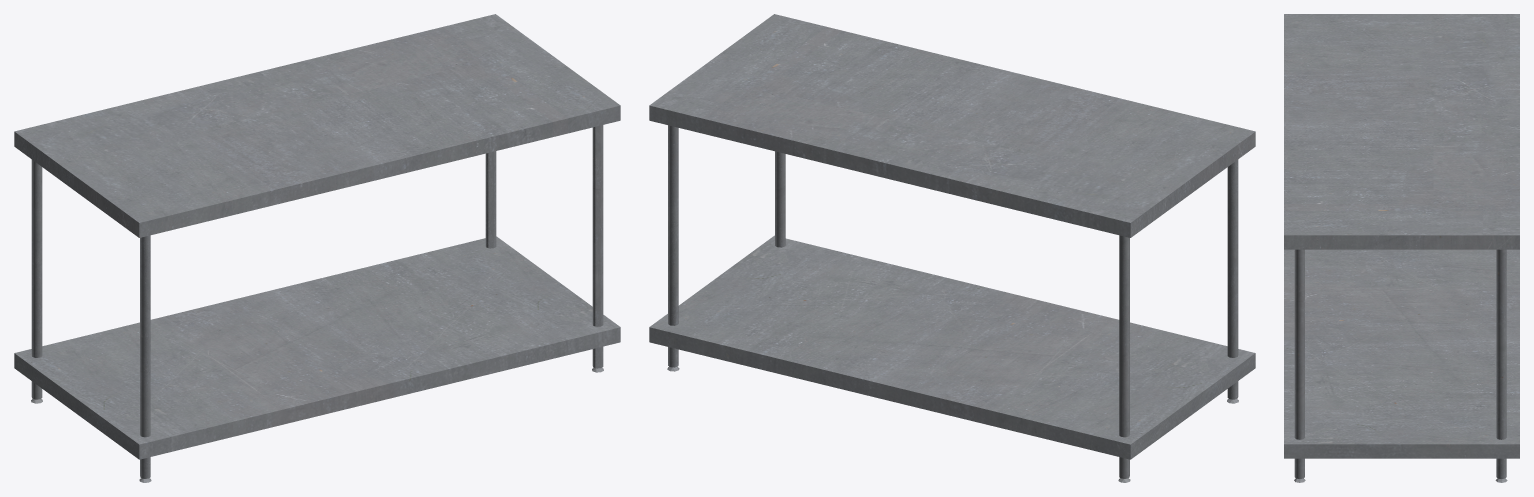
The model's file is BJW_KitchenBench_Plain.fbx.
3 renders of one model, left to right at view 1: azimuth 30°, elevation 25°; view 2: azimuth 150°, elevation 25°; view 3: azimuth 270°, elevation 25°, orthographic. The views are drawn at different scales.
Parts seen in each view (by area): view 1: KitchenBench_plain; view 2: KitchenBench_plain; view 3: KitchenBench_plain.
Part boxes in pixels (x1=…): KitchenBench_plain: x1=14, y1=14, x2=620, y2=482; KitchenBench_plain: x1=649, y1=14, x2=1255, y2=482; KitchenBench_plain: x1=1284, y1=14, x2=1519, y2=482.
Size of the model in its own units: 200 by 106 by 90.
